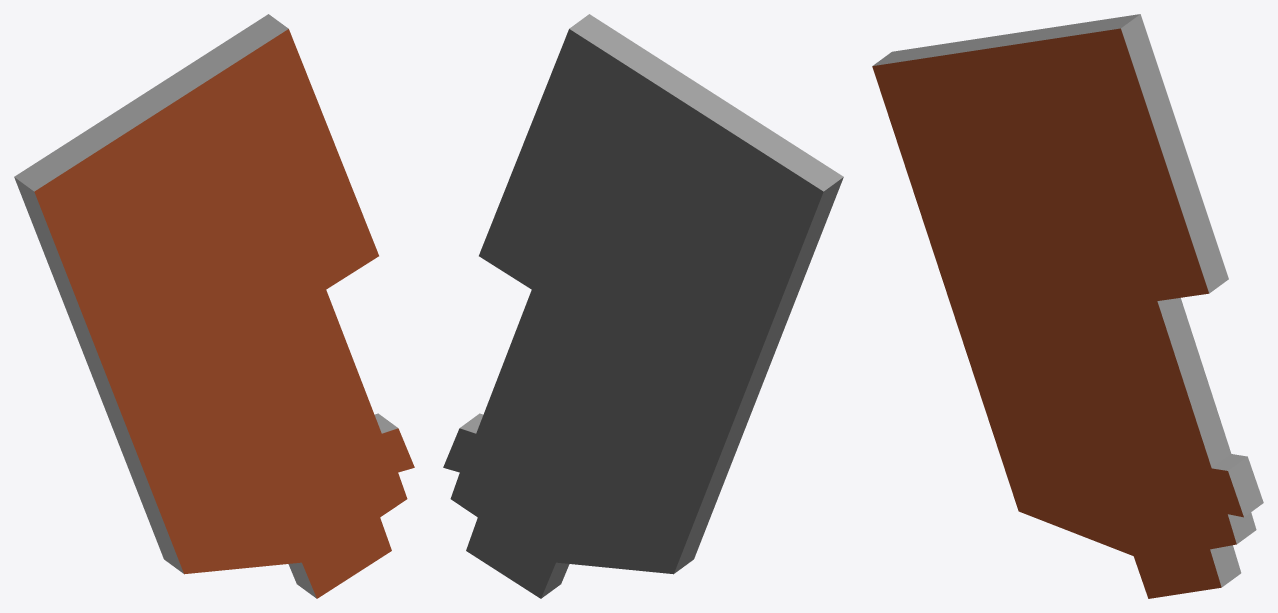
The model's file is construction_0126_assumed_A_Grande_construcao_h6m.obj.
3 renders of one model, left to right at view 1: azimuth 30°, elevation 25°; view 2: azimuth 150°, elevation 25°; view 3: azimuth 330°, elevation 25°, orthographic. The views are drawn at different scales.
Visible parts, largest first — view 1: construction_0126_assumed_A_Grande_construcao; view 2: construction_0126_assumed_A_Grande_construcao; view 3: construction_0126_assumed_A_Grande_construcao.
Boxes of the visible parts, box(x1,y1,x2,y2) form: construction_0126_assumed_A_Grande_construcao: box(14, 14, 414, 598); construction_0126_assumed_A_Grande_construcao: box(443, 14, 843, 598); construction_0126_assumed_A_Grande_construcao: box(872, 14, 1263, 598).
Bounding box in the file's own units: 65.19 × 94.44 × 6.
